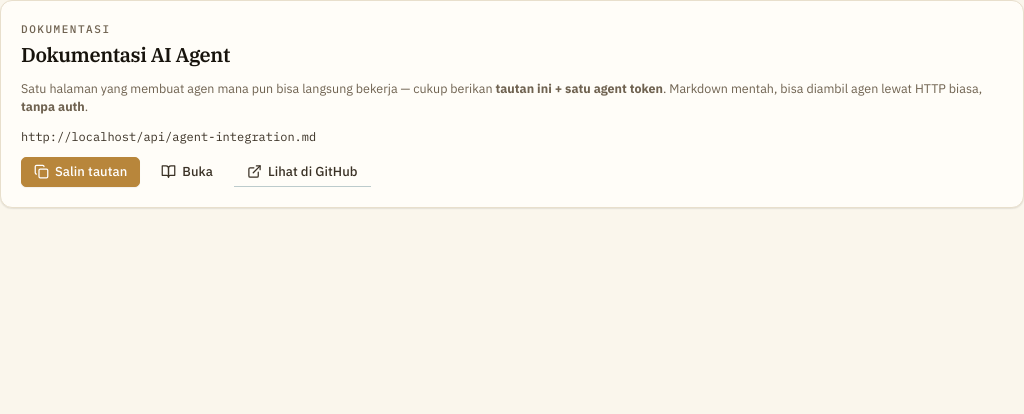
Scenario: AgentDocCard › endpoint gagal → pesan galat, bukan modal kosong
The image size is (1024, 414).
Click the button "Buka".
click(187, 172)  # box [148,156,226,186]
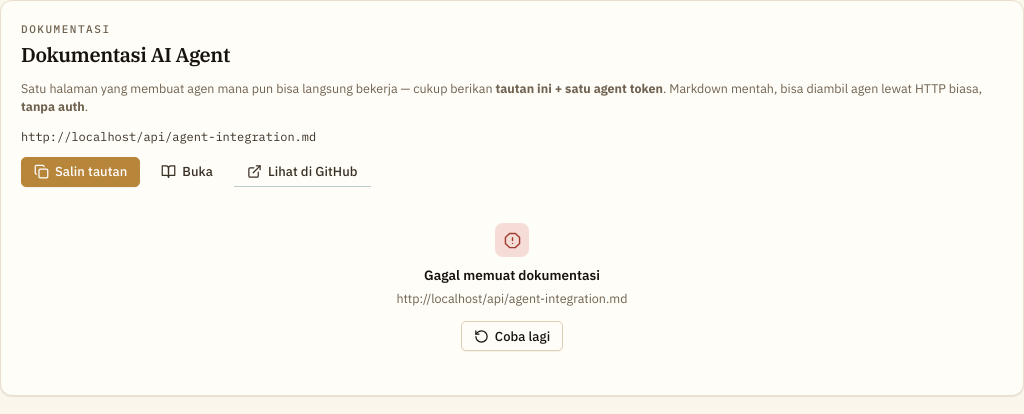
Check: the text "Gagal memuat dokumentasi" is shown, box [424,267,600,284]
